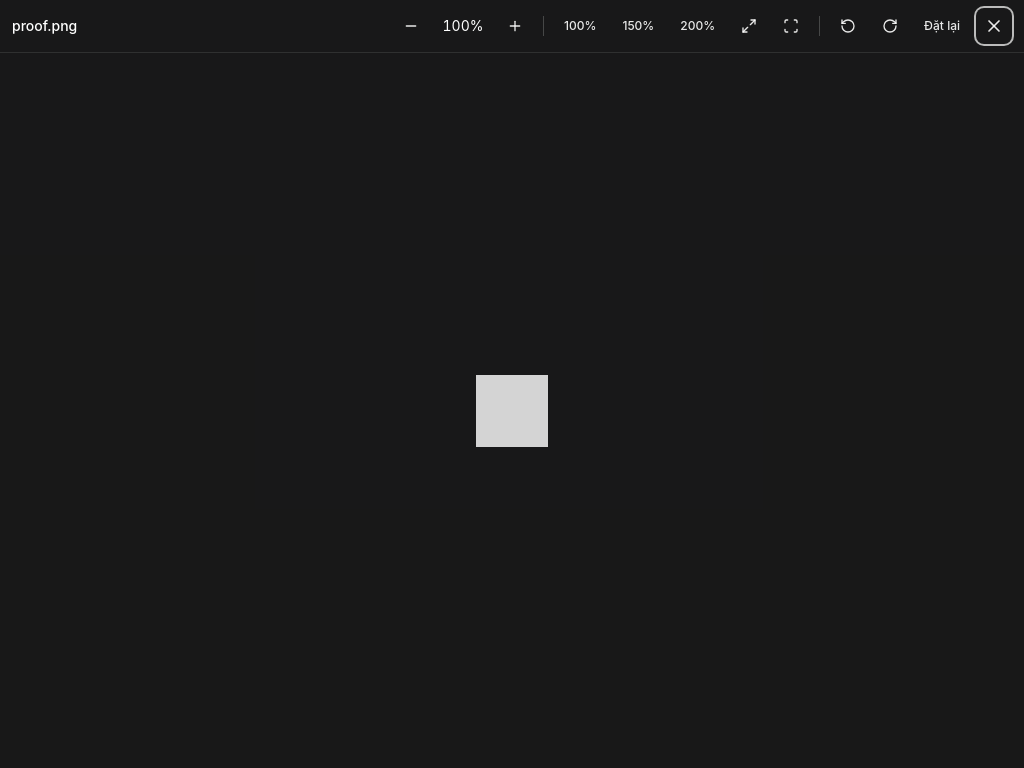
Test: ImageViewer — zoom › starts at 100% and zooms in / out via the toolbar buttons
Check: the message reads "100%", box [442, 17, 484, 34]
Click the button named "Phóng to (phím +)" at point(515, 26), box [497, 8, 533, 44]
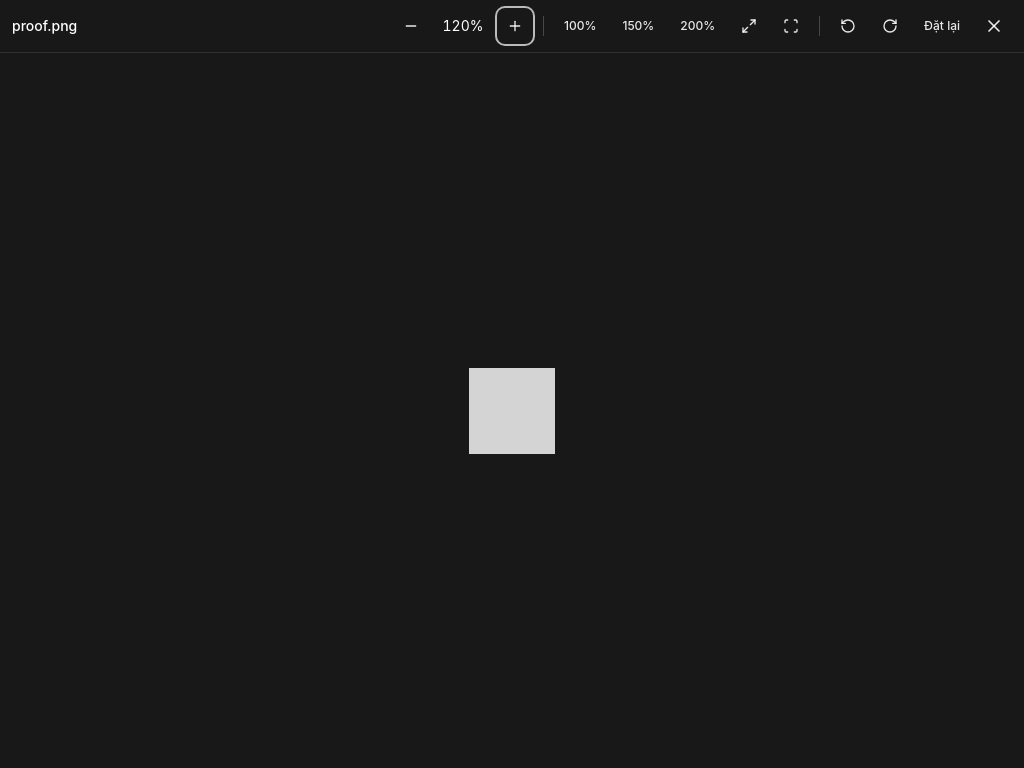
Check: the message reads "120%", box [442, 17, 484, 34]
Click the button named "Thu nhỏ (phím -)" at point(411, 26), box [393, 8, 429, 44]
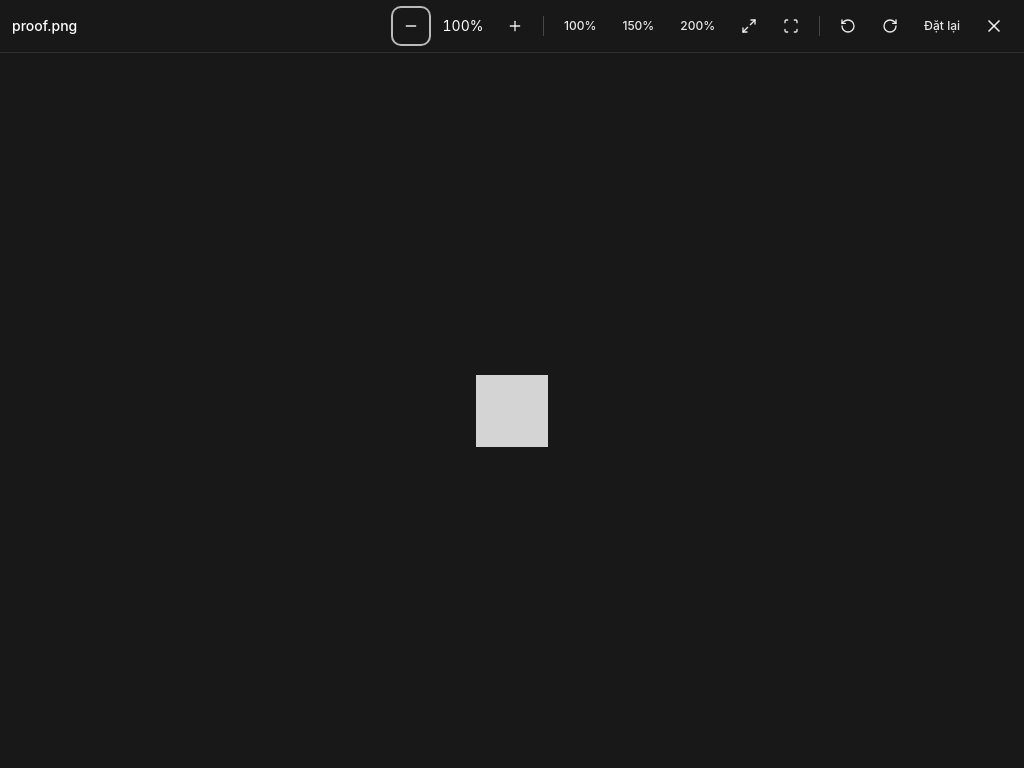
Check: the message reads "100%", box [442, 17, 484, 34]
